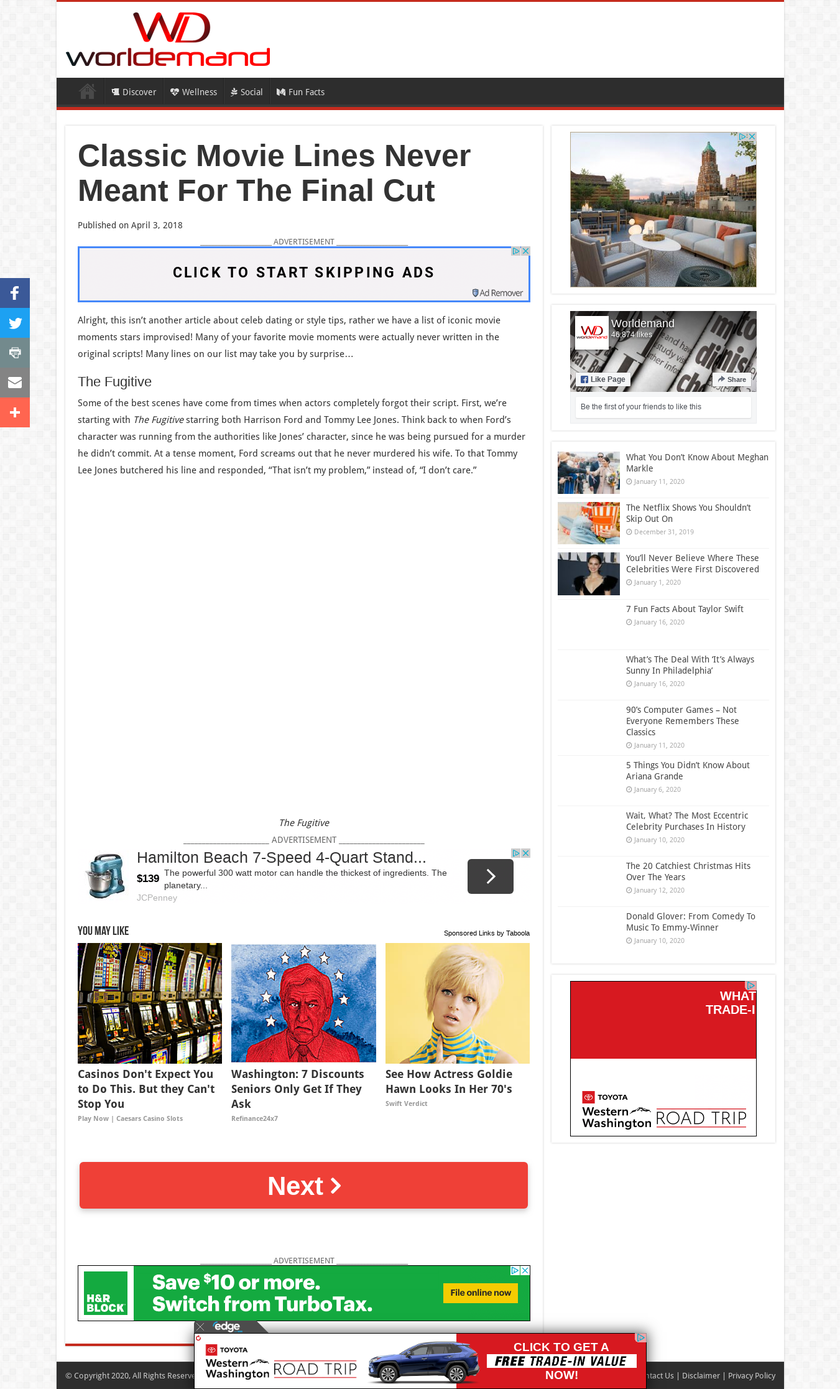fake_button: (64, 1153, 545, 1232), (71, 244, 539, 313), (440, 1273, 524, 1309)
